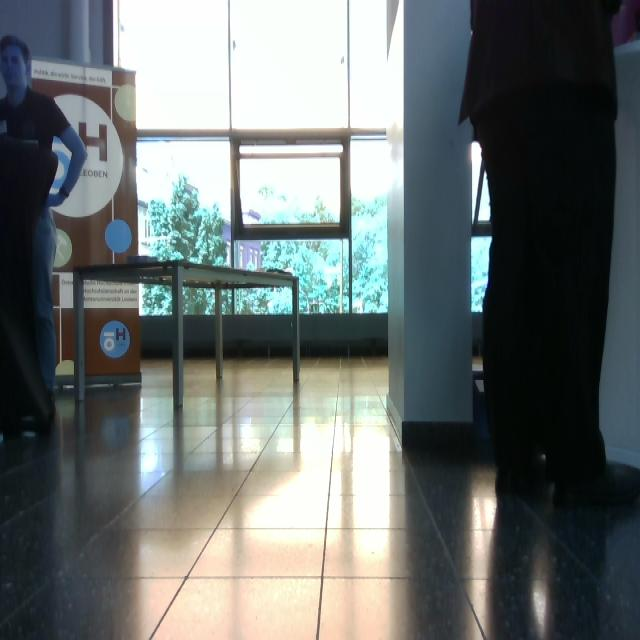door: (29, 56, 141, 382)
light bulb: (105, 219, 133, 255), (54, 229, 73, 268), (386, 121, 403, 146), (471, 141, 483, 169)
person: (458, 1, 623, 502), (1, 35, 89, 423)
pillar: (386, 1, 476, 445)
table: (71, 257, 304, 413)
tiled floor: (2, 353, 639, 638)
window: (112, 1, 396, 324)
